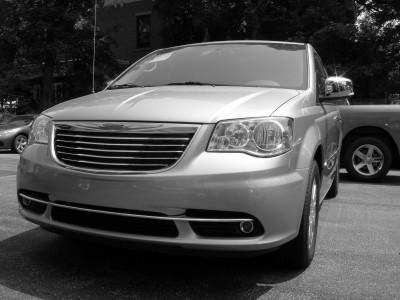car: (19, 41, 356, 271)
